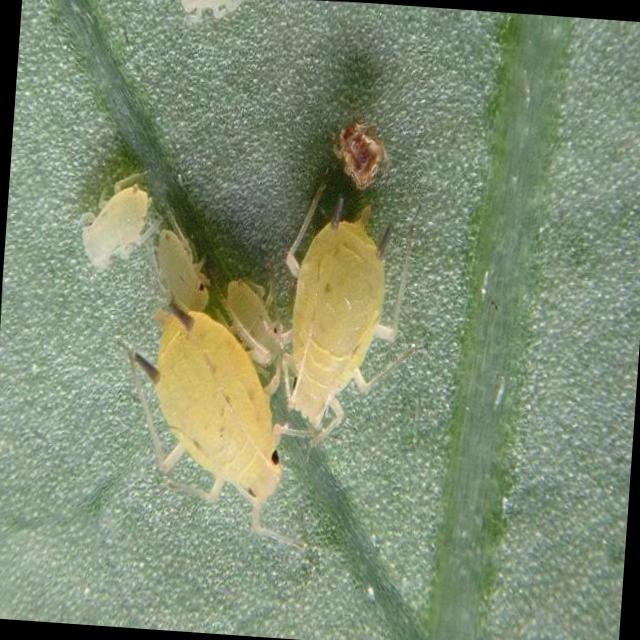aphid: (253, 185, 418, 447), (131, 316, 296, 538), (66, 162, 166, 275), (136, 203, 222, 323)
